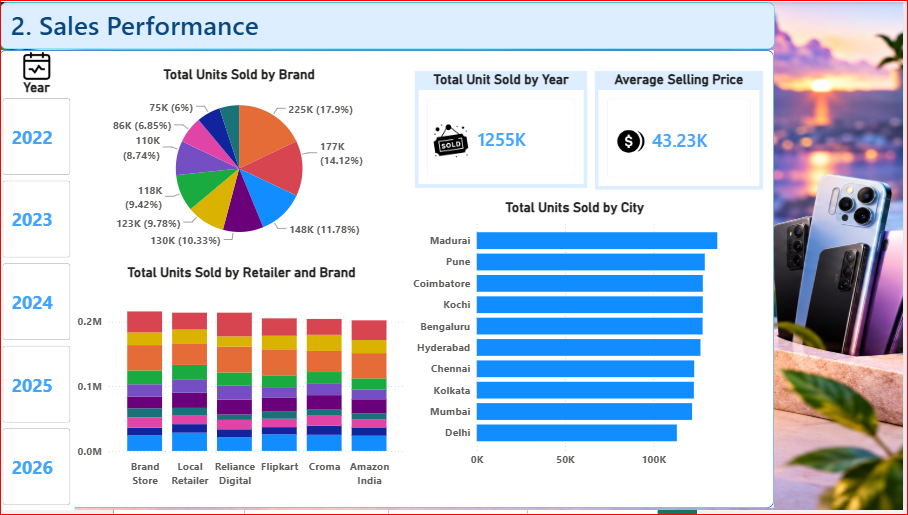

The page's visual inventory and layout, read from the dashboard file:
{"tool":"powerbi","page":{"name":"Sales Performance.","canvas":[1280,720],"ordinal":1},"visuals":[{"type":"group","id":"g1","title":"Group 1","box":[0,0,1099.4,716.6],"z":0},{"type":"shape","box":[0,67.7,1098.2,649.4],"z":0,"group":"g1"},{"type":"clusteredBarChart","fields":{"Category":["smartphone smartphone_price_comparison.City"],"Y":["Dax functions.Total Units Sold"]},"box":[581.6,279.8,469.9,389],"z":1000},{"type":"advancedSlicerVisual","title":"Year","fields":{"Label":["Dax functions.Total Units Sold"],"Values":["smartphone smartphone_price_comparison.Launch_Year"]},"box":[0,109.2,106.7,611],"z":2000},{"type":"columnChart","fields":{"Category":["smartphone smartphone_price_comparison.Retailer"],"Series":["smartphone smartphone_price_comparison.Brand"],"Y":["Calculations.Total Units Sold"]},"box":[106.7,371.8,474.8,323.9],"z":3000},{"type":"cardVisual","title":"Total Unit  Sold by Year","fields":{"Data":["Sum(smartphone smartphone_price_comparison.Units_Sold)"]},"box":[590.2,98.2,244.2,165.6],"z":4000},{"type":"cardVisual","title":"Average Selling Price","fields":{"Data":["Dax functions.Average Selling Price"]},"box":[844.2,98.2,238,168.1],"z":5000},{"type":"shape","box":[1.2,0,1098.2,67],"z":6000,"group":"g1"},{"type":"image","box":[24.5,67.5,58.9,45.4],"z":6000},{"type":"textbox","box":[1.2,1.9,1034.4,64.9],"z":7000,"group":"g1"},{"type":"image","box":[871.2,171.8,47.9,52.8],"z":7000},{"type":"image","box":[604.9,169.3,71.2,57.7],"z":8000},{"type":"pieChart","fields":{"Category":["smartphone smartphone_price_comparison.Brand"],"Y":["Dax functions.Total Units Sold"]},"box":[132.5,90.8,417.2,268.7],"z":9000}]}

Visuals, with their boxes in screenshot pixels (x1, y1, x2, y2), scaled from the page's 1280x720 canvas onto the 908x515 screenshot:
"Group 1" group: 0 0 780 513
shape: 0 48 779 513
clusteredBarChart - smartphone smartphone_price_comparison.City x Dax functions.Total Units Sold: 413 200 746 478
"Year" advancedSlicerVisual: 0 78 76 514
columnChart - smartphone smartphone_price_comparison.Retailer x smartphone smartphone_price_comparison.Brand: 76 266 413 498
"Total Unit  Sold by Year" cardVisual: 419 70 592 189
"Average Selling Price" cardVisual: 599 70 768 190
shape: 1 0 780 48
image: 17 48 59 81
textbox: 1 1 735 48
image: 618 123 652 161
image: 429 121 480 162
pieChart - smartphone smartphone_price_comparison.Brand x Dax functions.Total Units Sold: 94 65 390 257
